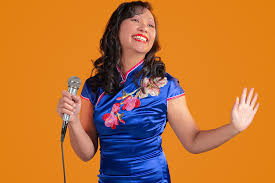asian_female: (101, 1, 174, 77)
